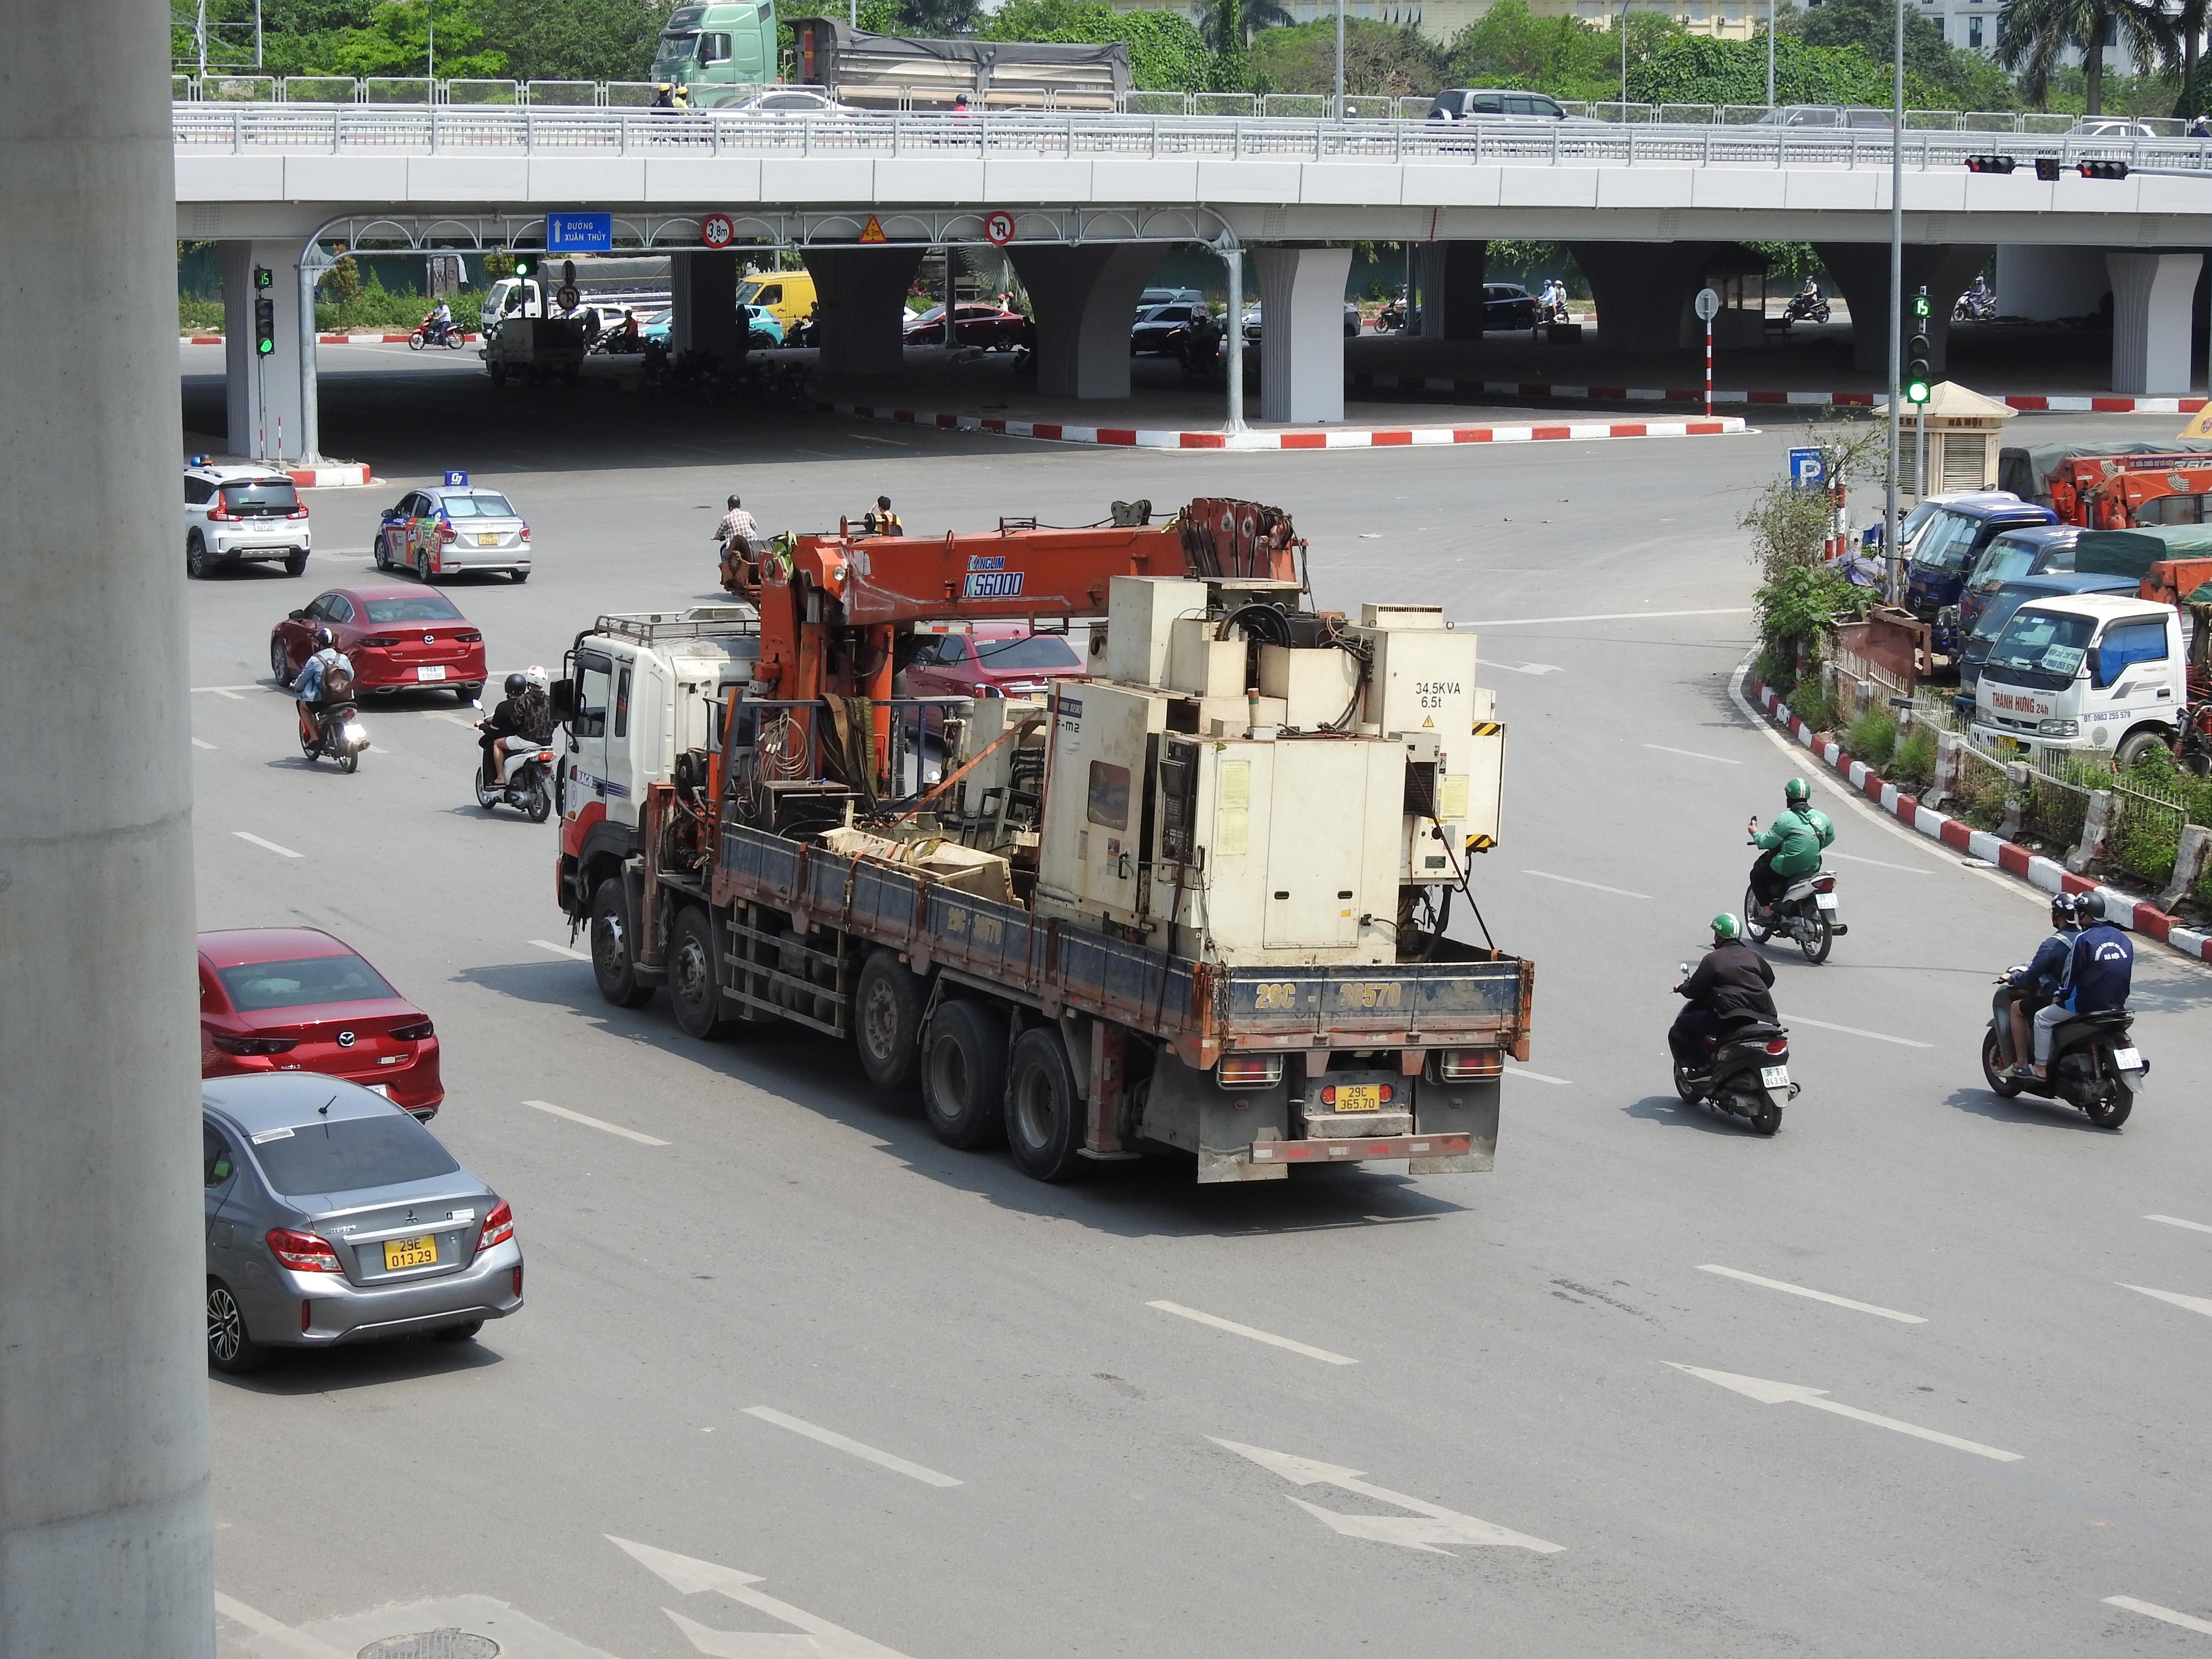BSV: (383, 1236, 439, 1269), (1336, 1084, 1379, 1112), (2113, 1047, 2144, 1070), (1761, 1065, 1791, 1087), (416, 664, 446, 680), (1815, 892, 1839, 910), (254, 518, 275, 532), (477, 533, 500, 545)
car: (204, 1065, 526, 1373), (199, 922, 444, 1127), (270, 582, 488, 706), (371, 486, 531, 584), (186, 465, 312, 579)
motorbike: (1980, 889, 2149, 1133), (1669, 911, 1799, 1138), (1742, 779, 1846, 967), (474, 667, 557, 823), (293, 627, 369, 774), (714, 491, 759, 596)
truck: (552, 509, 1536, 1190)
